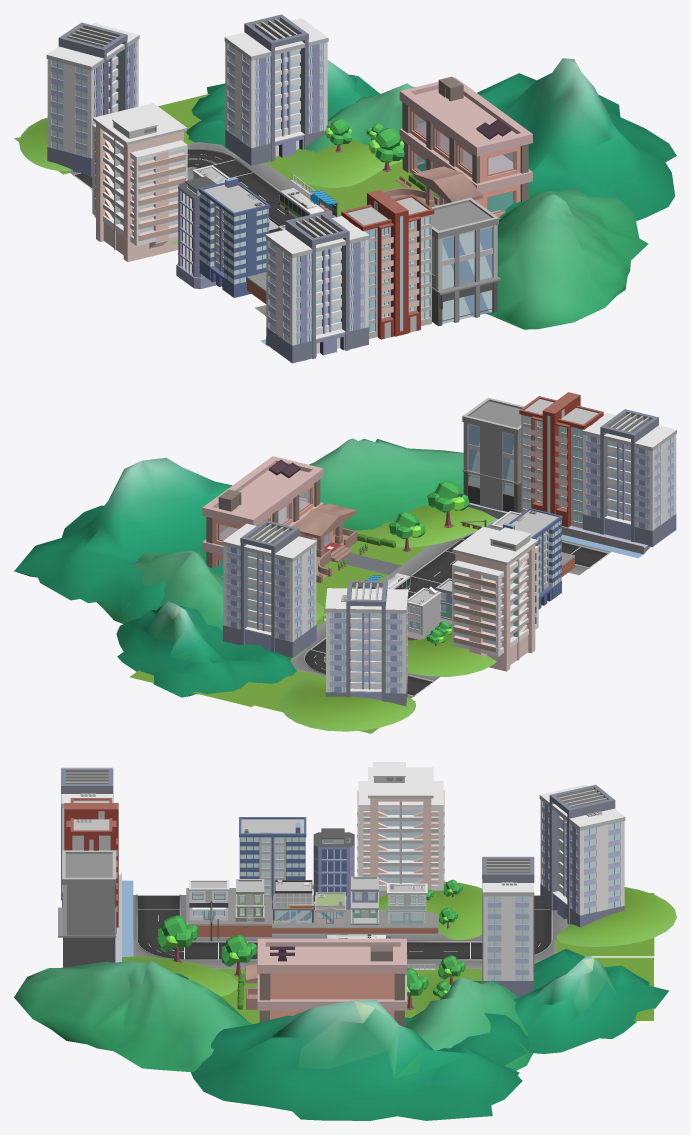
The model's file is _townB.glb.
3 renders of one model, top to bottom at view 1: azimuth 30°, elevation 25°; view 2: azimuth 150°, elevation 25°; view 3: azimuth 270°, elevation 25°, orthographic. The views are drawn at different scales.
Visible parts, largest first — view 1: SM_mountain_012, SM_mountain_009, main_.021, SM_home_high, SM_home_high.001, SM_home_high_008.034, SM_home_high.002, SM_home_high_006, SM_home_hotel_005, SM_home_high_003, SM_mountain_012.002, SM_ground_002 (+10 smaller); view 2: SM_mountain_012, SM_home_high, SM_home_high.001, SM_home_high_008.034, SM_mountain_012.002, SM_home_high.002, main_.021, SM_mountain_009, SM_home_high_006, SM_home_hotel_005, SM_mountain_10, SM_ground_4.001 (+15 smaller); view 3: SM_mountain_012, SM_mountain_009, main_.021, SM_home_high.002, SM_home_high_008.034, SM_mountain_012.002, SM_home_high.001, SM_home_hotel_005, SM_mountain_10, SM_home_high_003, SM_ground_4.001, SM_home_high_006 (+25 smaller).
Part boxes in pixels (<box>): SM_mountain_012: <box>417,58,676,221</box>; SM_mountain_009: <box>486,189,648,329</box>; main_.021: <box>379,76,532,217</box>; SM_home_high: <box>265,212,369,363</box>; SM_home_high.001: <box>224,14,328,165</box>; SM_home_high_008.034: <box>92,103,187,261</box>; SM_home_high.002: <box>46,22,139,176</box>; SM_home_high_006: <box>341,190,434,339</box>; SM_home_hotel_005: <box>431,197,500,326</box>; SM_home_high_003: <box>199,177,270,297</box>; SM_mountain_012.002: <box>186,60,379,151</box>; SM_ground_002: <box>287,140,402,187</box>; SM_mountain_012: <box>14,457,232,618</box>; SM_home_high: <box>582,409,676,547</box>; SM_home_high.001: <box>222,520,316,658</box>; SM_home_high_008.034: <box>452,526,538,671</box>; SM_mountain_012.002: <box>116,601,296,697</box>; SM_home_high.002: <box>325,580,408,706</box>; main_.021: <box>202,456,357,583</box>; SM_mountain_009: <box>301,438,463,530</box>; SM_home_high_006: <box>519,392,603,528</box>; SM_home_hotel_005: <box>462,397,524,513</box>; SM_mountain_10: <box>96,551,223,630</box>; SM_ground_4.001: <box>279,675,415,731</box>; SM_mountain_012: <box>191,1000,529,1120</box>; SM_mountain_009: <box>14,960,251,1072</box>; main_.021: <box>245,938,407,1026</box>; SM_home_high.002: <box>539,784,625,927</box>; SM_home_high_008.034: <box>357,762,444,897</box>; SM_mountain_012.002: <box>513,949,668,1053</box>; SM_home_high.001: <box>482,856,534,997</box>; SM_home_hotel_005: <box>58,850,116,967</box>; SM_mountain_10: <box>405,977,532,1070</box>; SM_home_high_003: <box>239,817,306,909</box>; SM_ground_4.001: <box>556,887,676,946</box>; SM_home_high_006: <box>64,798,118,933</box>.
Bounding box in the file's own units: 102 × 28.8 × 116.
Materials: 21 (4 with a texture image).
